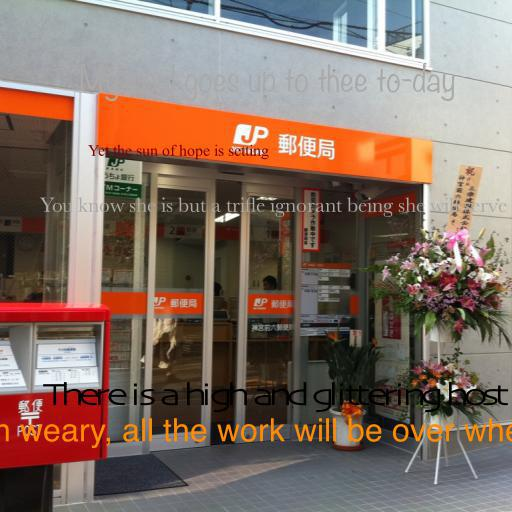Baskerville: (39, 197, 507, 218)
Big Caslon: (0, 418, 512, 449)
Noteworthy: (78, 63, 456, 103)
Skia: (42, 382, 506, 413)
Times New Roman: (87, 144, 269, 160)
